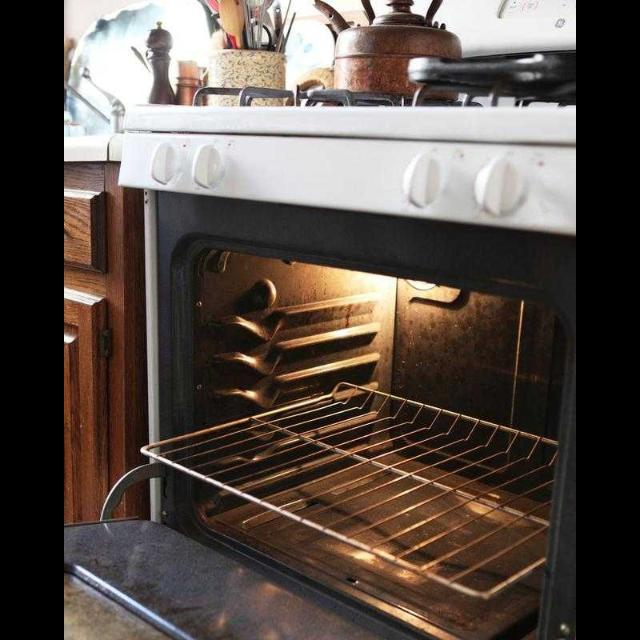Oven: (128, 105, 576, 640)
